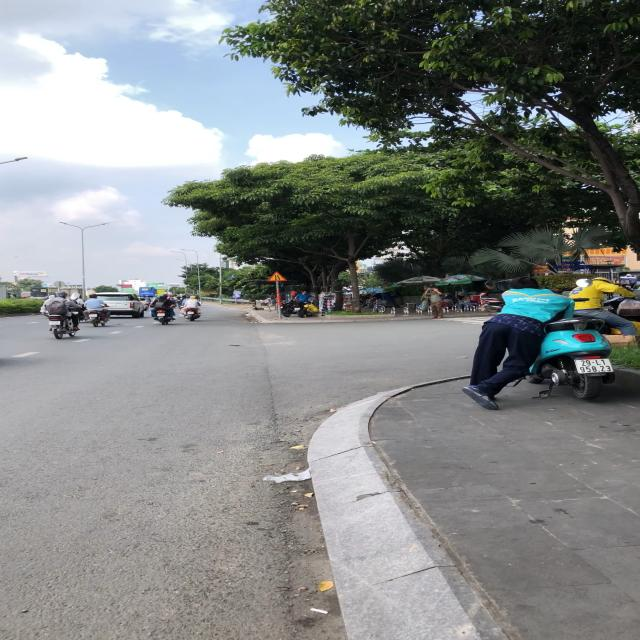Bien bao duong bi thu hep: (266, 271, 287, 282)
